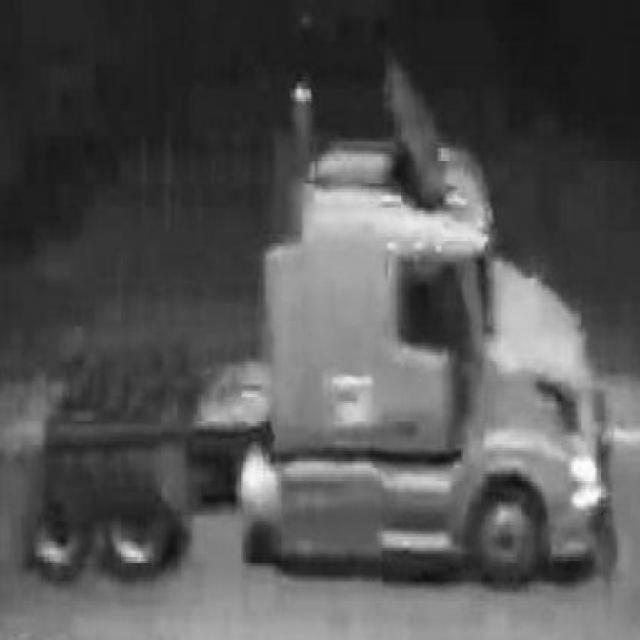Tractor Trailer: (24, 54, 614, 583)
